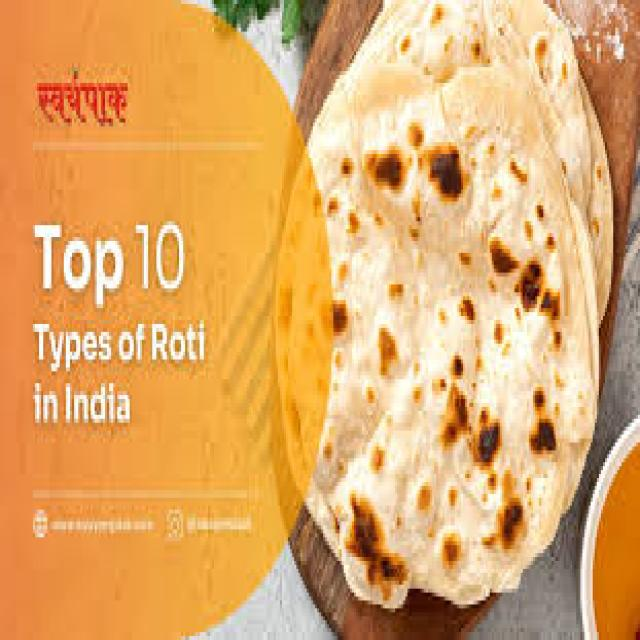ROTI: (302, 12, 601, 610)
